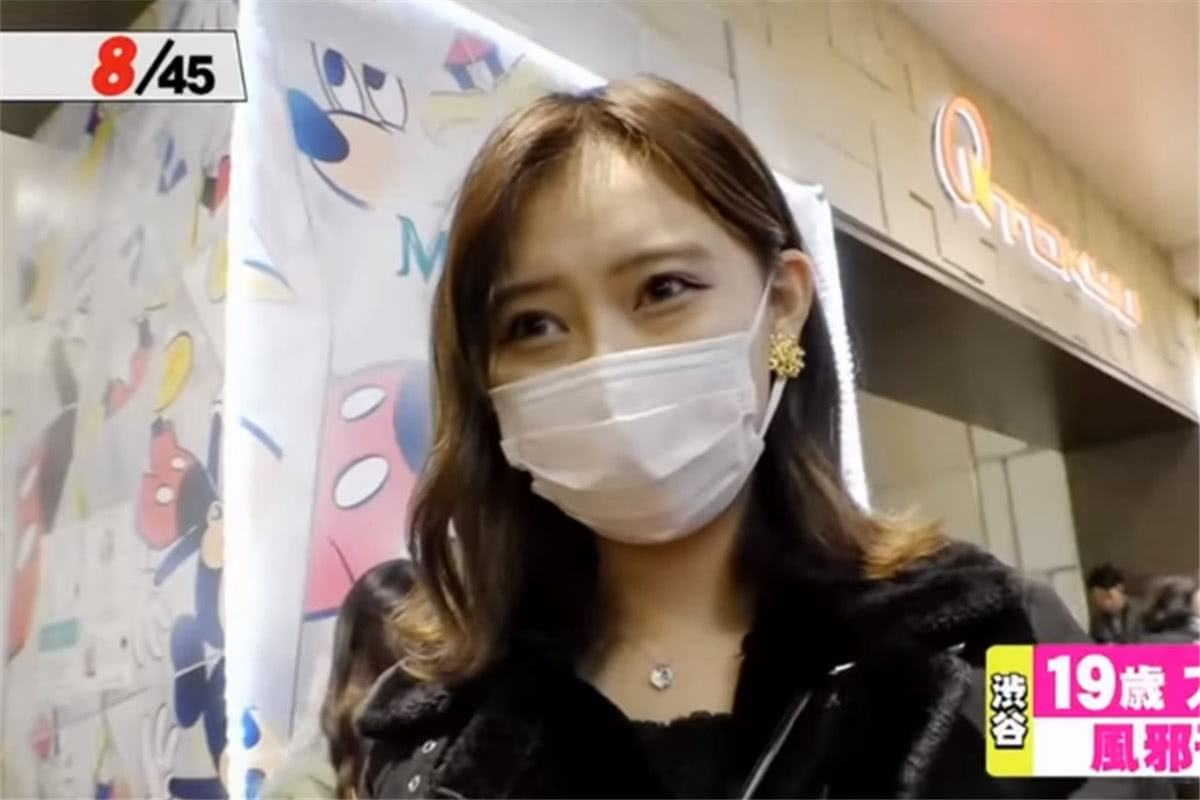mask: (487, 180, 770, 538)
